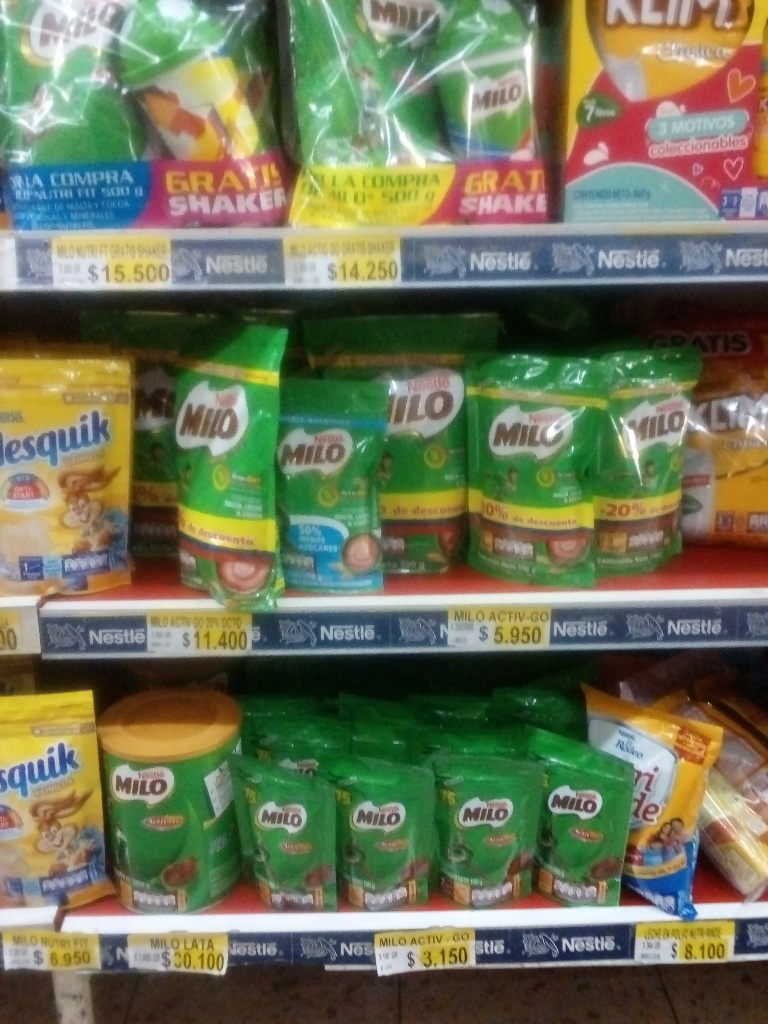COL0170203DYP10000: (225, 759, 342, 916)
COL0170203DYP25000: (598, 347, 695, 581)
COL0170203DYP50000: (289, 6, 440, 222)
COL0170205DYP20000: (266, 373, 397, 593)
COL0170205DYP50000: (3, 0, 139, 204)
COL0170306DYP20000: (0, 689, 117, 917)
